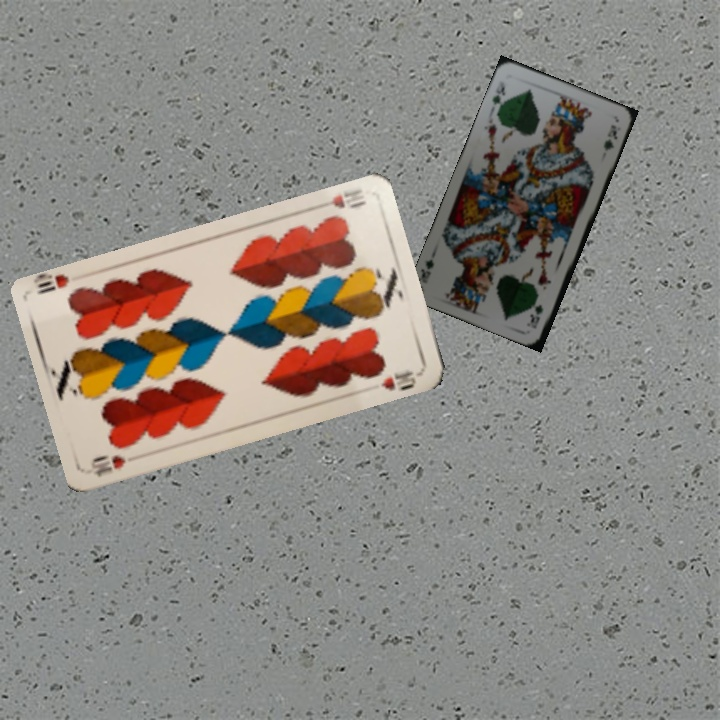GK: (488, 77, 508, 114), (525, 300, 546, 331)
H10: (311, 185, 369, 213), (86, 450, 128, 479)
